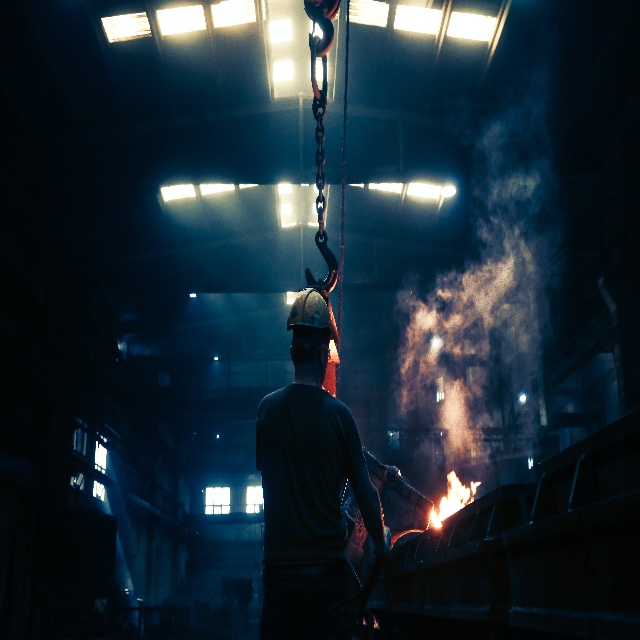Gafas: (325, 345, 331, 360)
Guantes: (372, 525, 392, 558)
